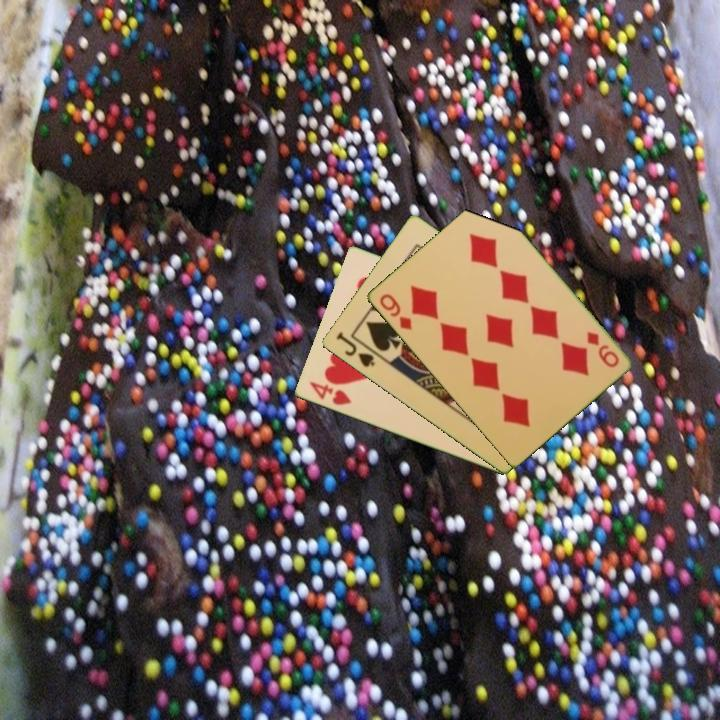4h: (306, 378, 355, 408)
9d: (375, 290, 415, 333), (583, 328, 622, 370)
Js: (332, 328, 378, 370)
